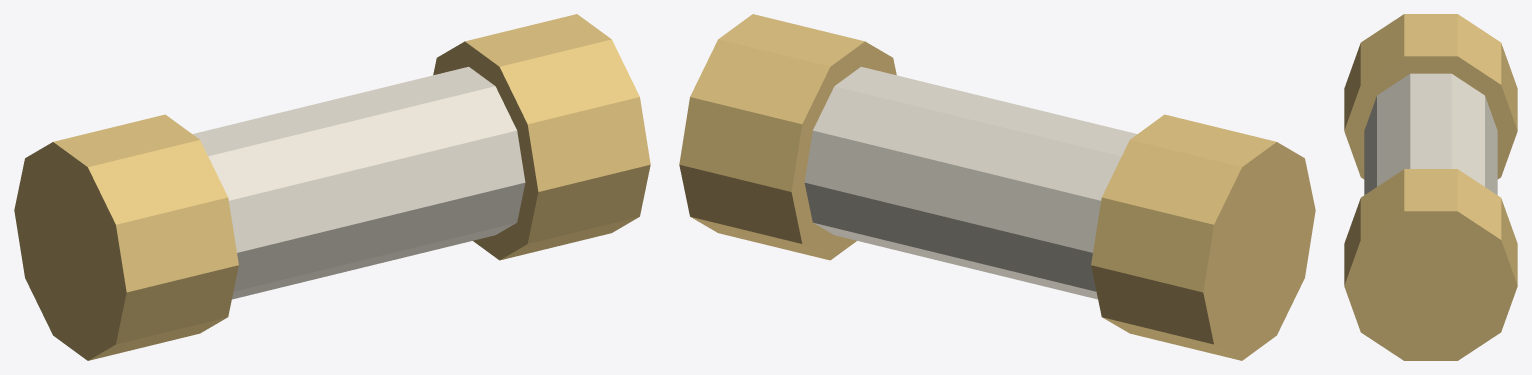
Rendered from INT_Fusible.fbx.
3 renders of one model, left to right at view 1: azimuth 30°, elevation 25°; view 2: azimuth 150°, elevation 25°; view 3: azimuth 270°, elevation 25°, orthographic. The views are drawn at different scales.
Parts seen in each view (by area): view 1: INT_Fusible; view 2: INT_Fusible; view 3: INT_Fusible.
Boxes of the visible parts, x1,y1,x2,y2 form: INT_Fusible: (14, 14, 650, 360); INT_Fusible: (679, 14, 1315, 360); INT_Fusible: (1344, 14, 1517, 360).
Bounding box in the file's own units: 0.14 × 0.0495 × 0.052.
